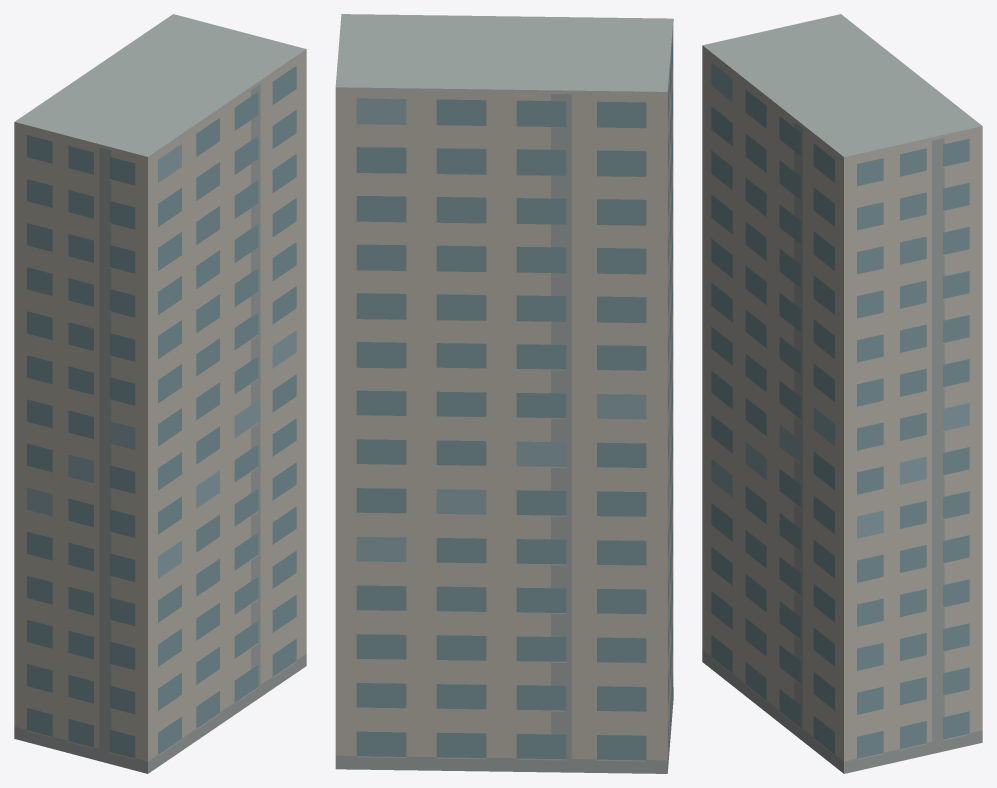
Rendered from residential-cb7e14bc-3ac9-419d-8b91-d78819bcced0.glb.
3 renders of one model, left to right at view 1: azimuth 30°, elevation 25°; view 2: azimuth 150°, elevation 25°; view 3: azimuth 270°, elevation 25°, orthographic. The views are drawn at different scales.
Visible parts, largest first — view 1: residential-cb7e14bc-3ac9-419d-8b91-d78819bcced0.tmp; view 2: residential-cb7e14bc-3ac9-419d-8b91-d78819bcced0.tmp; view 3: residential-cb7e14bc-3ac9-419d-8b91-d78819bcced0.tmp.
Part boxes in pixels (box(x1,y1,x2,y2)): residential-cb7e14bc-3ac9-419d-8b91-d78819bcced0.tmp: box(14, 14, 306, 773); residential-cb7e14bc-3ac9-419d-8b91-d78819bcced0.tmp: box(335, 14, 673, 773); residential-cb7e14bc-3ac9-419d-8b91-d78819bcced0.tmp: box(702, 14, 982, 773).
Size of the model in its own units: 21.92 by 44 by 18.12.
